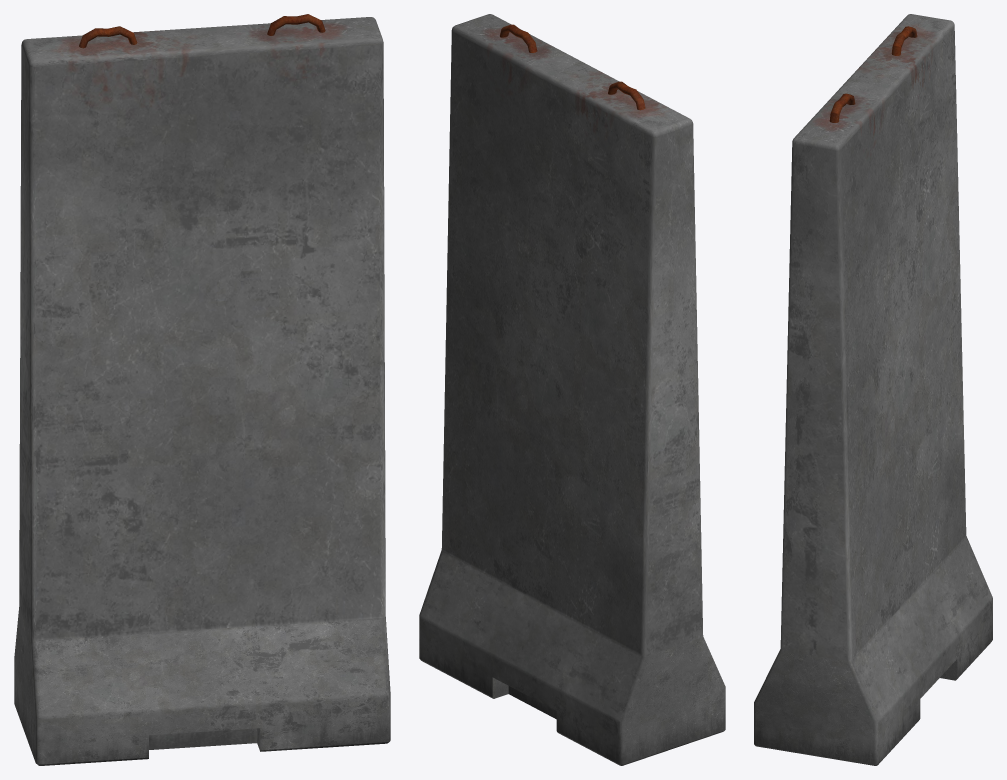
The model's file is ParedHormigon_01.glb.
3 renders of one model, left to right at view 1: azimuth 30°, elevation 25°; view 2: azimuth 150°, elevation 25°; view 3: azimuth 270°, elevation 25°, orthographic. The views are drawn at different scales.
Visible parts, largest first — view 1: Object_11; view 2: Object_11; view 3: Object_11.
Boxes of the visible parts, <box> form: Object_11: <box>14,14,390,765</box>; Object_11: <box>419,14,725,765</box>; Object_11: <box>754,14,992,765</box>.
Bounding box in the file's own units: 1.01 × 2.04 × 0.7004.
Materials: 1 (1 with a texture image).
